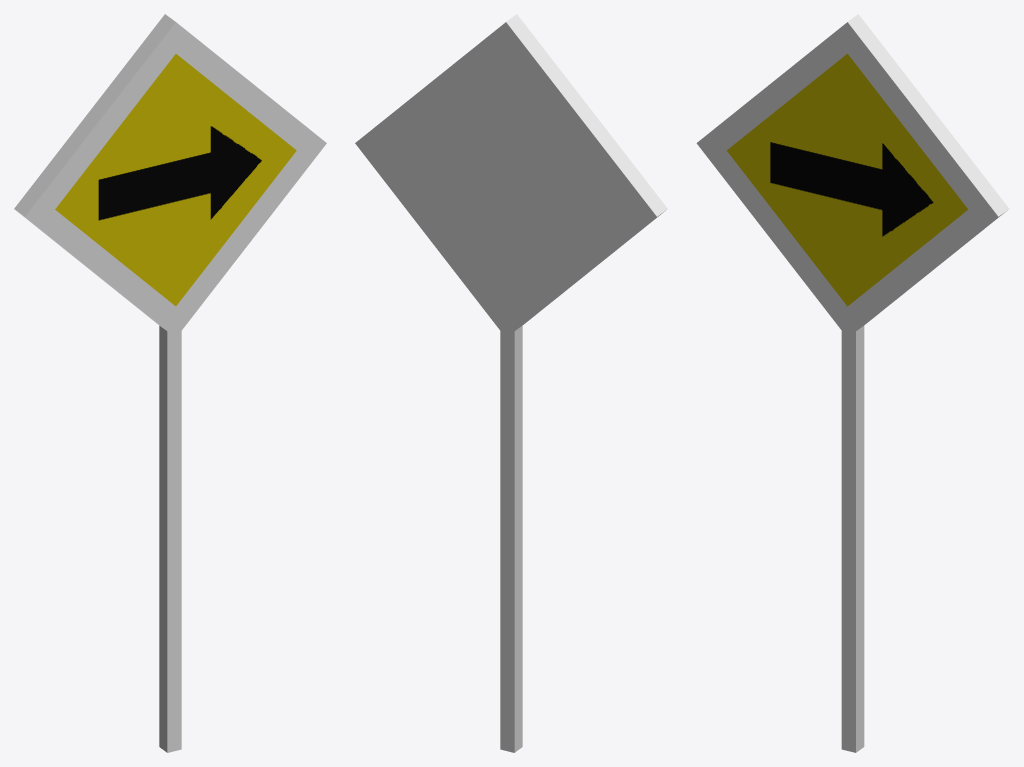
File: placa seta.fbx
The picture shows the model from 3 angles, left to right: view 1: azimuth 30°, elevation 25°; view 2: azimuth 150°, elevation 25°; view 3: azimuth 330°, elevation 25°; orthographic projection.
Parts seen in each view (by area): view 1: Road_Sign_1; view 2: Road_Sign_1; view 3: Road_Sign_1.
Boxes of the visible parts, left/top/right/bottom form: Road_Sign_1: left=14, top=14, right=326, bottom=752; Road_Sign_1: left=355, top=14, right=667, bottom=752; Road_Sign_1: left=696, top=14, right=1009, bottom=752.
Size of the model in its own units: 145 by 334 by 9.07.
